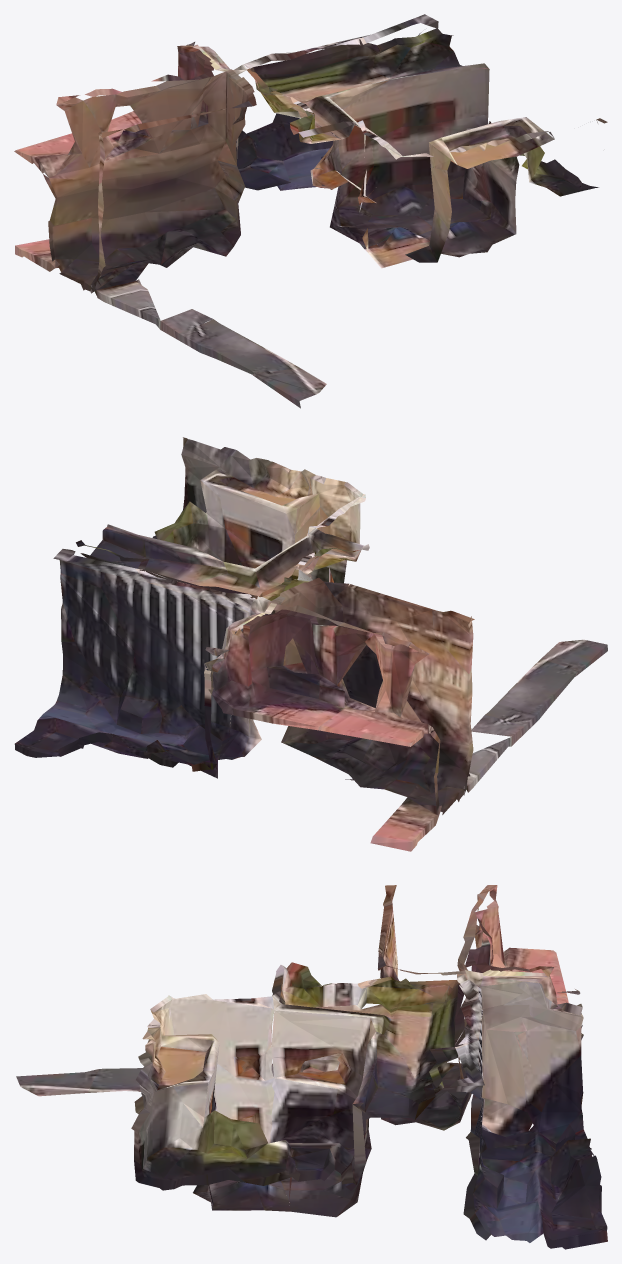
The picture shows the model from 3 angles, top to bottom: view 1: azimuth 30°, elevation 25°; view 2: azimuth 150°, elevation 25°; view 3: azimuth 270°, elevation 25°; orthographic projection. The views are drawn at different scales.
Visible parts, largest first — view 1: Mesh_0; view 2: Mesh_0; view 3: Mesh_0.
Boxes of the visible parts, x1,y1,x2,y2 form: Mesh_0: (14,14,607,408); Mesh_0: (14,437,607,851); Mesh_0: (16,885,607,1249).
Size of the model in its own units: 32.58 by 13.2 by 36.26.
1 material, 1 textured.
